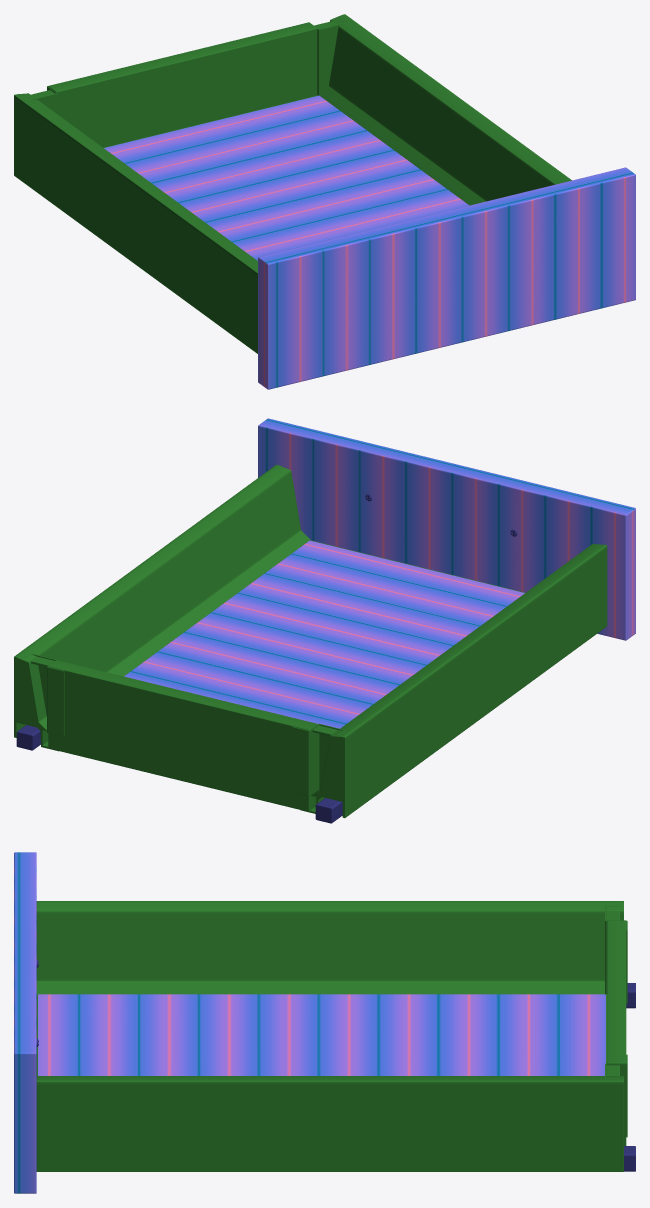
File: SM_Kitchen_06_Base_Drawer_01.fbx
3 views of the same model, one above another, from view 1: azimuth 30°, elevation 25°; view 2: azimuth 150°, elevation 25°; view 3: azimuth 270°, elevation 25° (orthographic). The views are drawn at different scales.
Visible parts, largest first — view 1: SM_Kitchen_06_Base_Drawer_01; view 2: SM_Kitchen_06_Base_Drawer_01; view 3: SM_Kitchen_06_Base_Drawer_01.
Boxes of the visible parts, x1,y1,x2,y2 form: SM_Kitchen_06_Base_Drawer_01: (14,14,635,389); SM_Kitchen_06_Base_Drawer_01: (14,418,635,823); SM_Kitchen_06_Base_Drawer_01: (14,852,635,1193).
Size of the model in its own units: 39.8 by 13 by 51.99.
4 materials, 2 textured.
